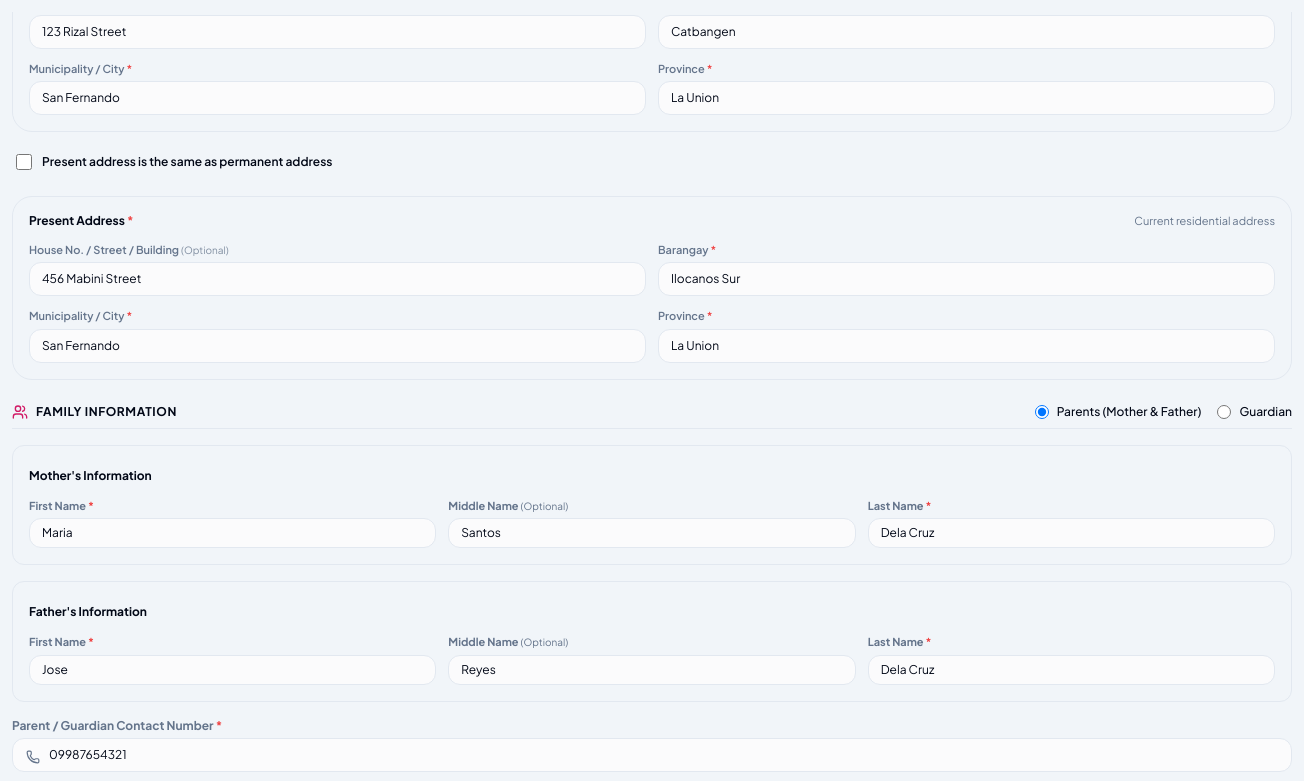
Test: StudentProfileForm Component › toggles between Parents mode and Guardian mode
(page scrolled)
Expected: the field named "mother's first name" is shown, [29, 518, 436, 548]
Expected: the field named "mother's last name" is shown, [868, 518, 1275, 548]
// Switch to Guardian mode
Click the radio button labelled "Guardian" at point(1224, 412), box [1217, 404, 1231, 418]
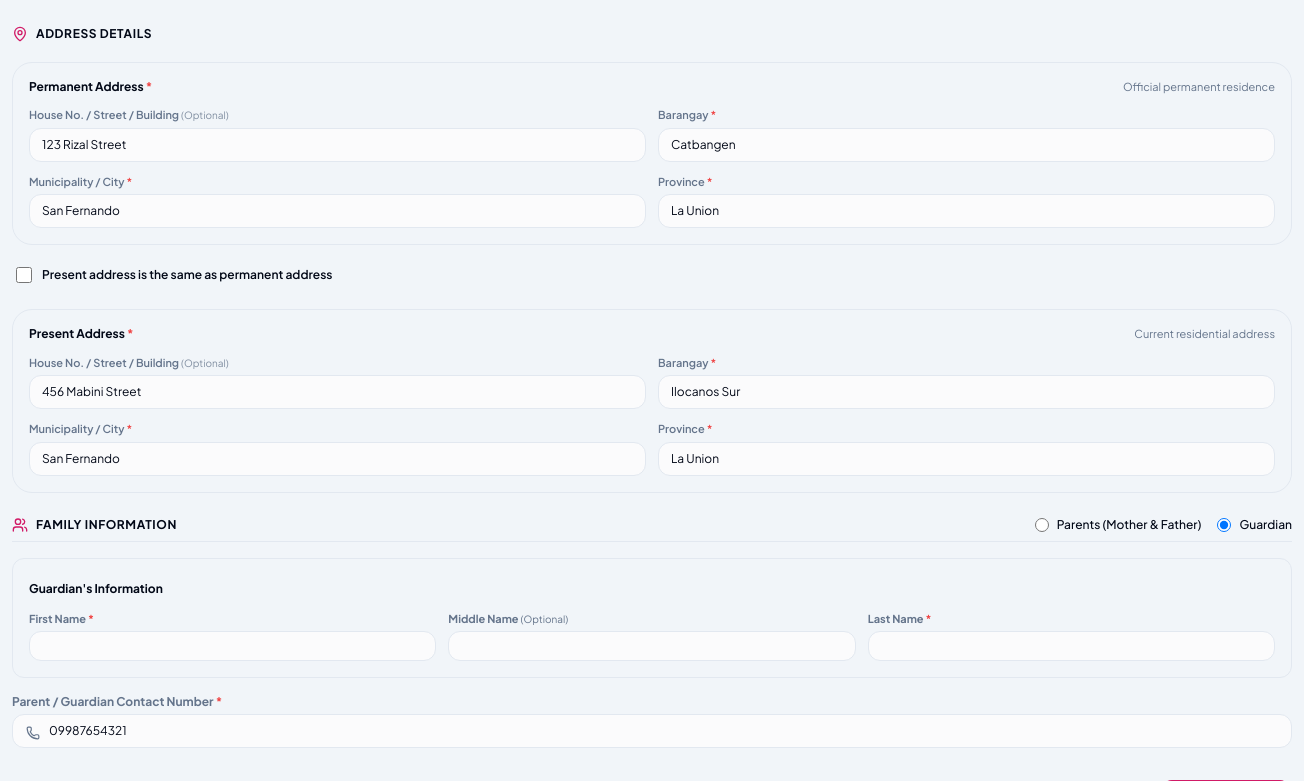
Expected: the field named "guardian's first name" is shown, [29, 631, 436, 661]
Expected: the field named "guardian's last name" is shown, [868, 631, 1275, 661]
